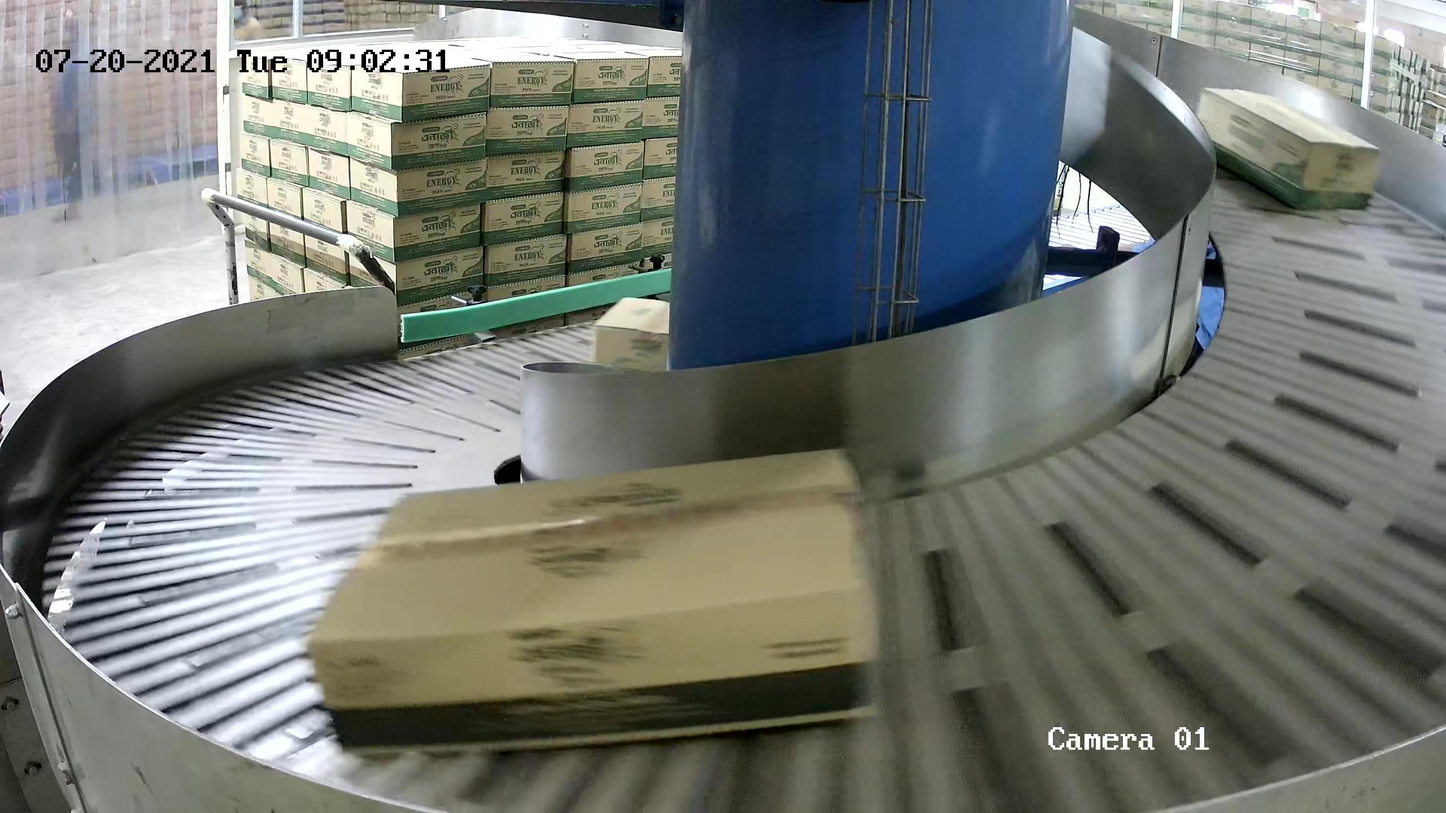Box: (303, 443, 883, 753), (1195, 85, 1381, 212)
